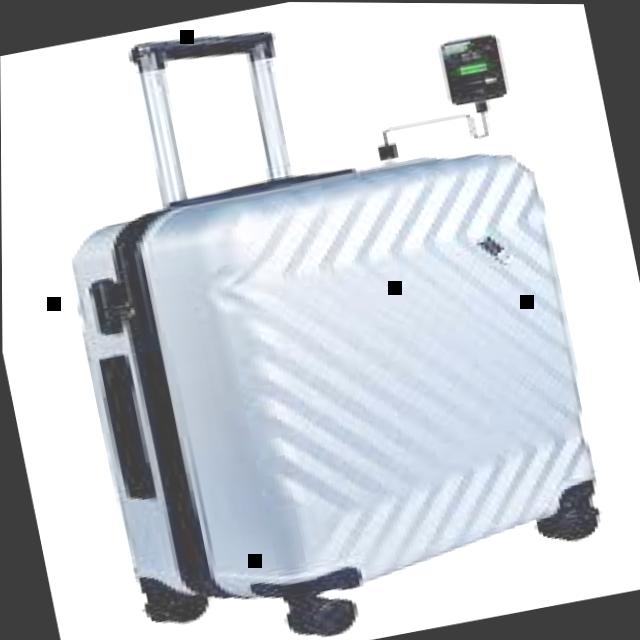luggage: (45, 108, 636, 640)
